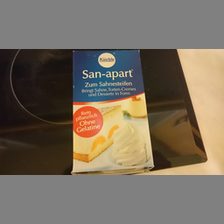cake: (72, 49, 154, 172)
